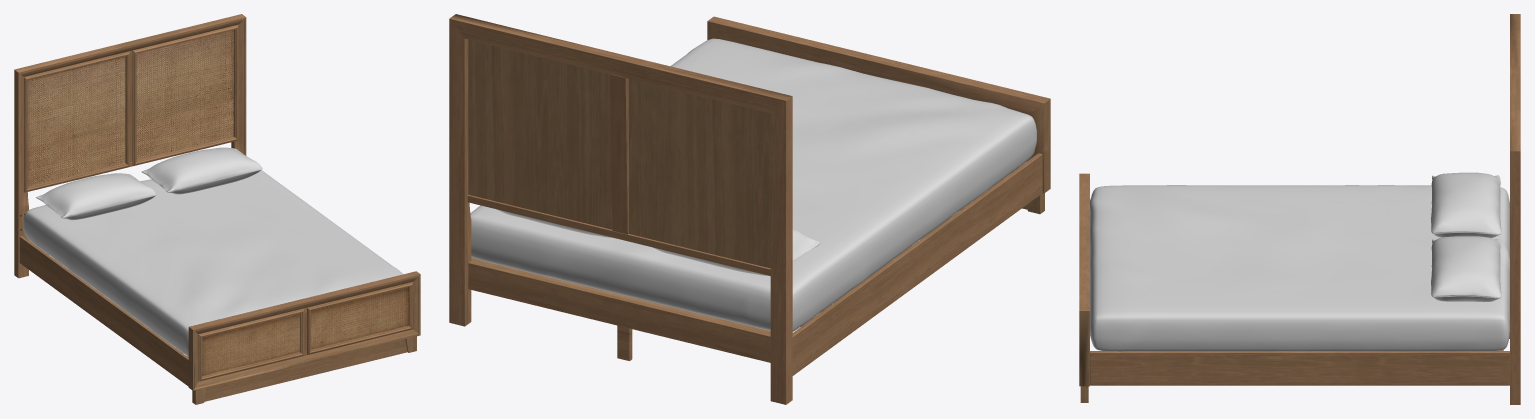
File: bed_abo_B07B4ZFC57.glb
3 views of the same model, side by side, from view 1: azimuth 30°, elevation 25°; view 2: azimuth 150°, elevation 25°; view 3: azimuth 270°, elevation 25° (orthographic). The views are drawn at different scales.
Parts seen in each view (by area): view 1: consolidatedNode; view 2: consolidatedNode; view 3: consolidatedNode.
Part boxes in pixels (x1,y1,x2,y2): consolidatedNode: (14, 14, 420, 404); consolidatedNode: (449, 14, 1050, 404); consolidatedNode: (1079, 14, 1520, 404).
Size of the model in its own units: 1.61 by 1.39 by 2.18.
1 material, 1 textured.
